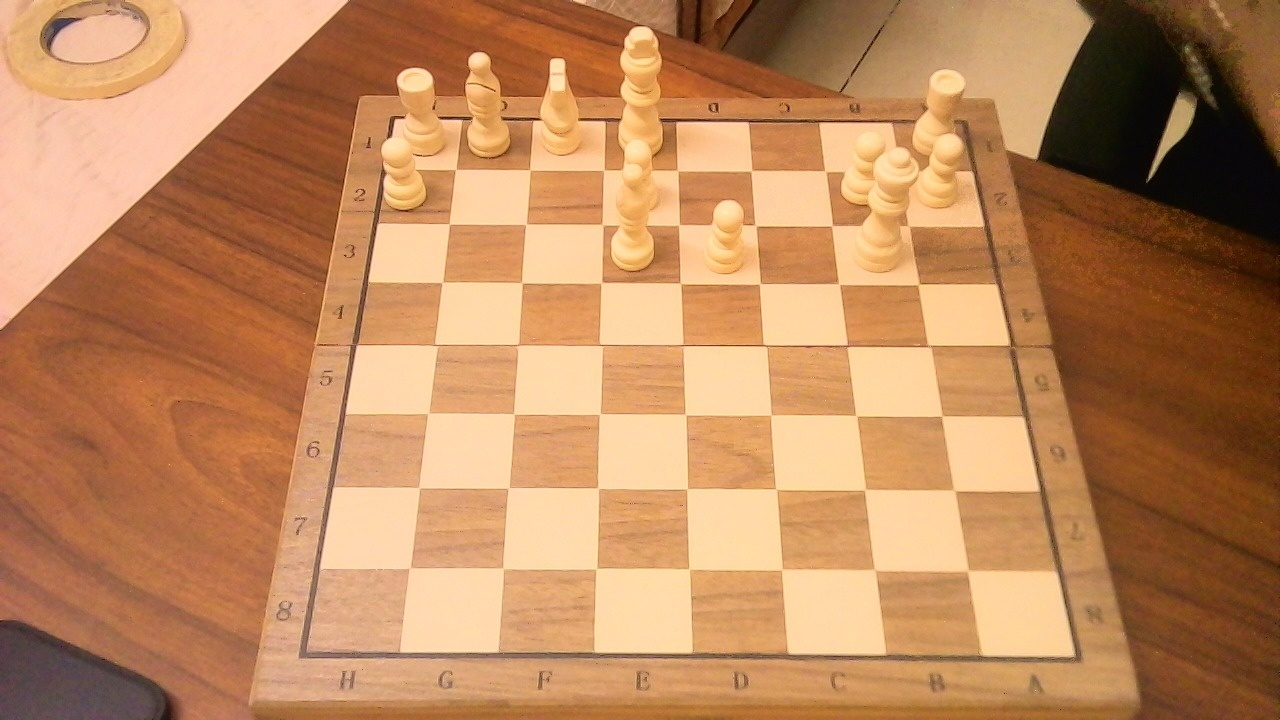B: (606, 151, 667, 274), (459, 41, 519, 161)
K: (610, 16, 673, 160)
N: (531, 47, 591, 160)
P: (835, 122, 898, 211), (694, 190, 753, 279), (377, 128, 433, 212), (920, 124, 973, 212), (612, 131, 664, 215)
Q: (846, 135, 925, 278)
R: (907, 59, 973, 160), (392, 57, 451, 160)
